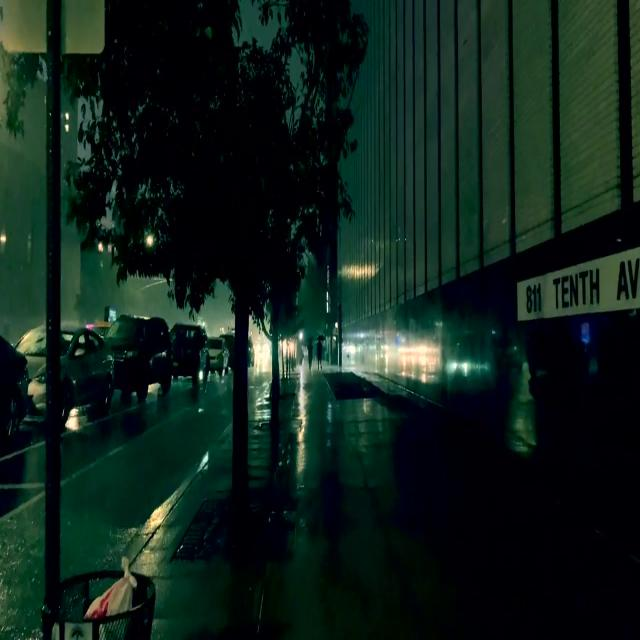Car: (108, 313, 173, 401), (175, 320, 206, 388)
